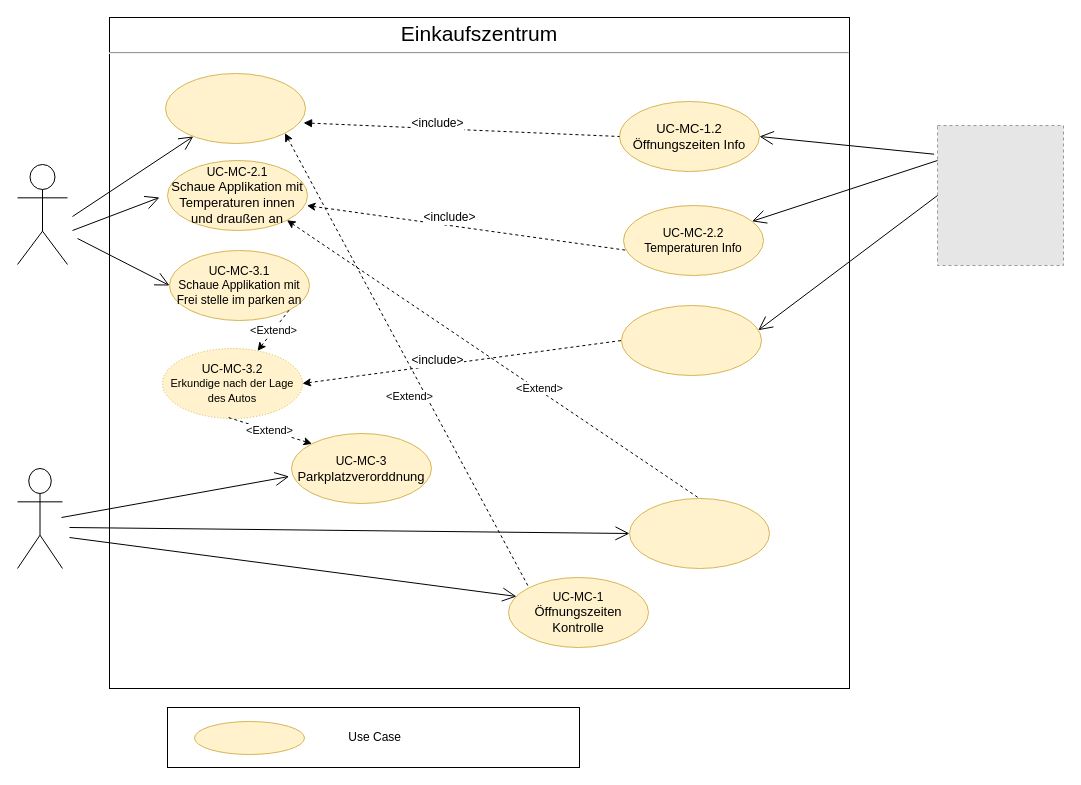
The diagram is 1081 pixels wide and 785 high, and some of its shapes have lost their labels. Grey dashed boxes stand in for pictures. The box of each missing label's shape, as (x1, y1, x2, y2) in pixels:
Admin: (16, 468, 62, 568)
Kunde: (16, 164, 68, 264)
UC-MC-1.1 Schaue Applikation mit Öffnungszeiten an: (164, 72, 306, 144)
UC-MC-2 Temperaturkontrolle: (628, 498, 770, 568)
UC-MC-3.3 Parkplatz Info: (620, 304, 762, 376)
